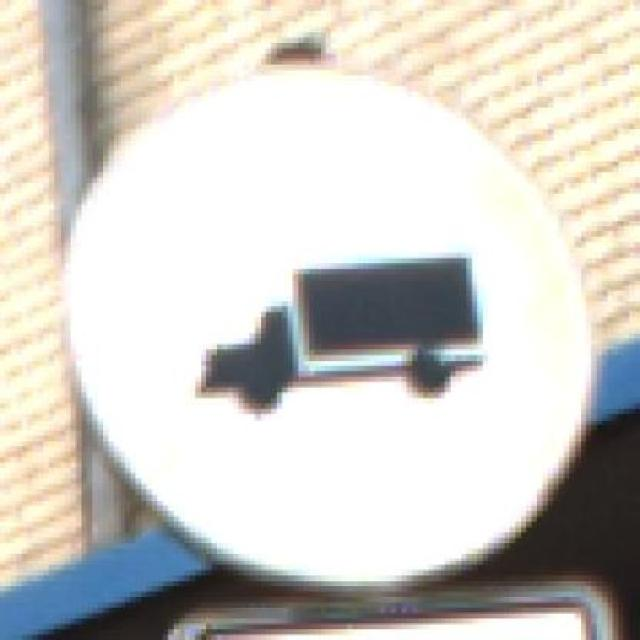Truck traffic is prohibited: (32, 27, 602, 591)
